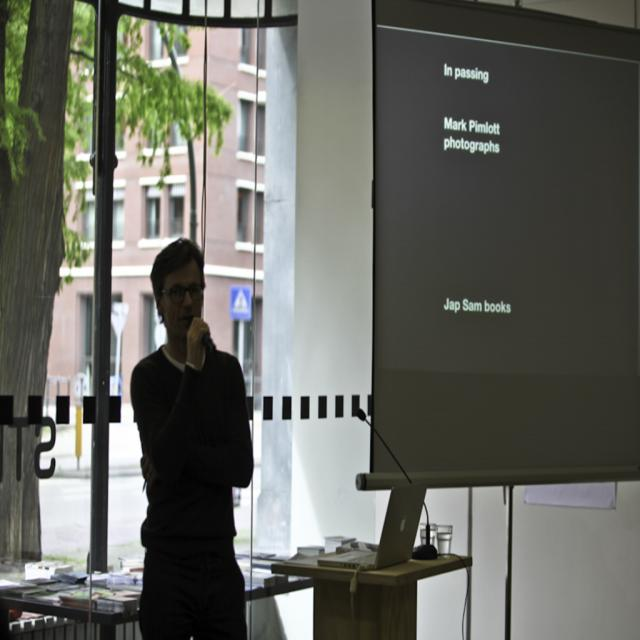desk: (260, 538, 482, 631)
laptop: (320, 481, 428, 571)
mouse: (411, 543, 438, 559)
person: (130, 237, 254, 635)
tv: (372, 2, 638, 493)
